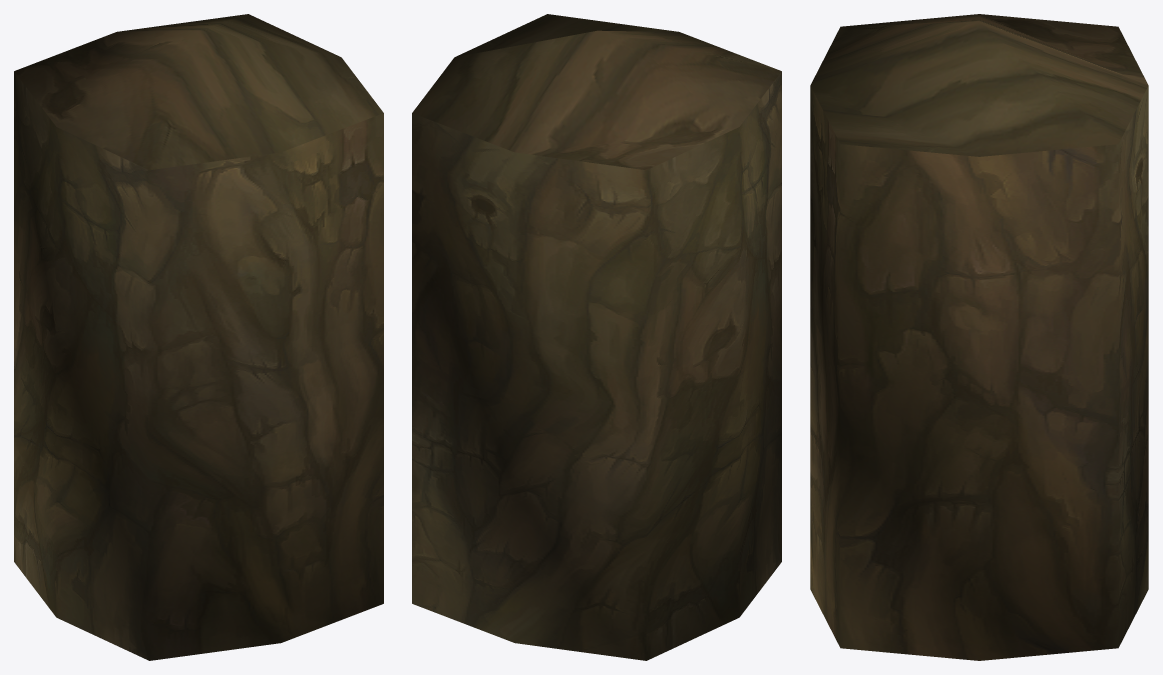
File: branch-segment.glb
3 views of the same model, side by side, from view 1: azimuth 30°, elevation 25°; view 2: azimuth 150°, elevation 25°; view 3: azimuth 270°, elevation 25° (orthographic). The views are drawn at different scales.
Visible parts, largest first — view 1: branch; view 2: branch; view 3: branch.
Boxes of the visible parts, bbox=[...] form: branch: bbox=[14, 14, 383, 660]; branch: bbox=[412, 14, 781, 660]; branch: bbox=[810, 14, 1148, 660].
Size of the model in its own units: 0.6081 by 1.25 by 0.6081.
1 material, 1 textured.
